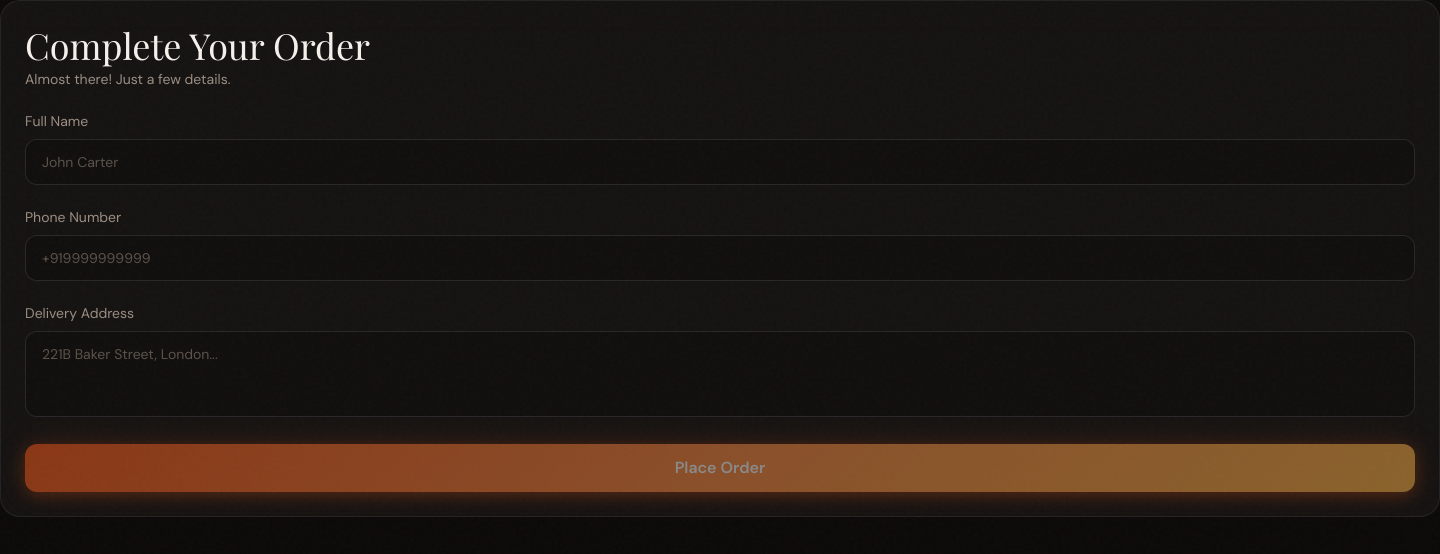
CheckoutForm › shows validation for invalid phone
In the field with placeholder "+919999999999": (720, 258) [25,235,1415,281], type "123"
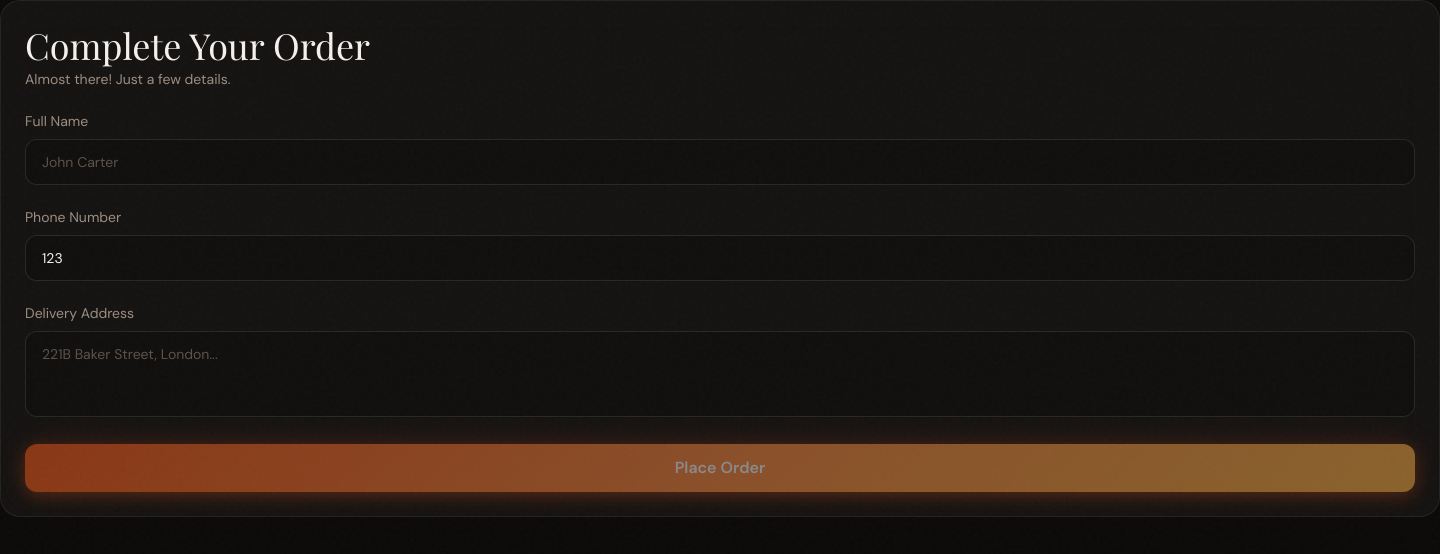
Leave the field with placeholder "+919999999999", box [25,235,1415,281]
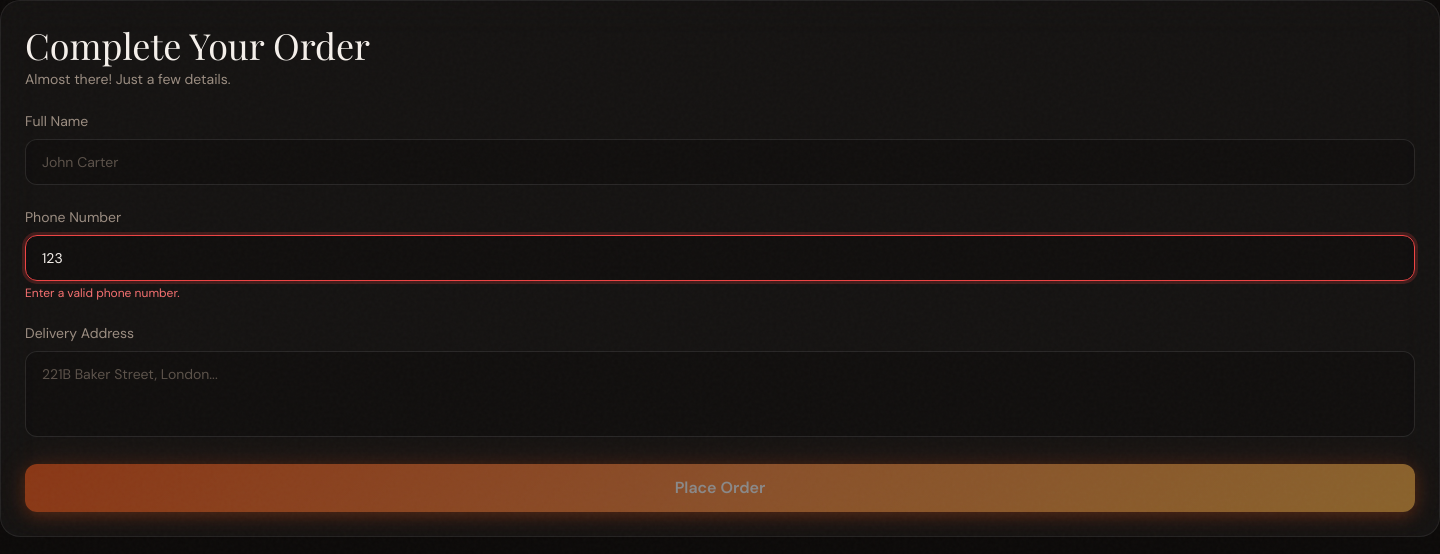
Expected: the text "Enter a valid phone number." is shown, [25,285,180,301]
